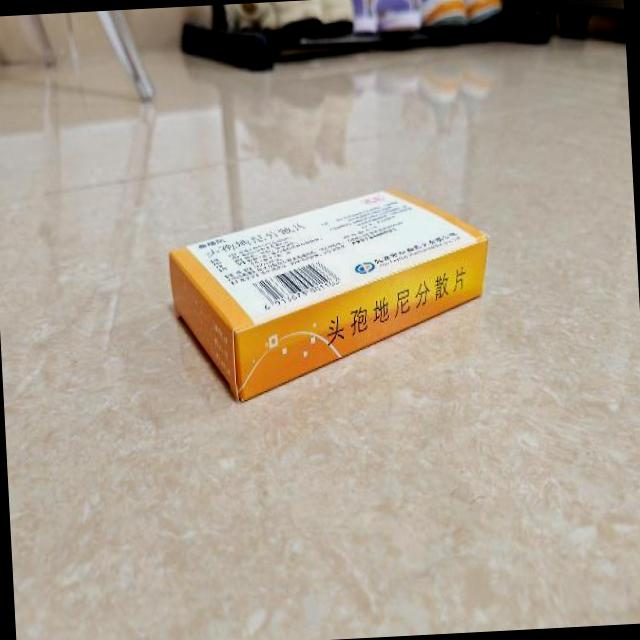box: (165, 182, 498, 406)
